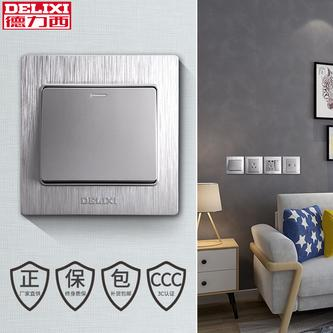switch: (38, 80, 166, 188), (225, 160, 244, 172)
